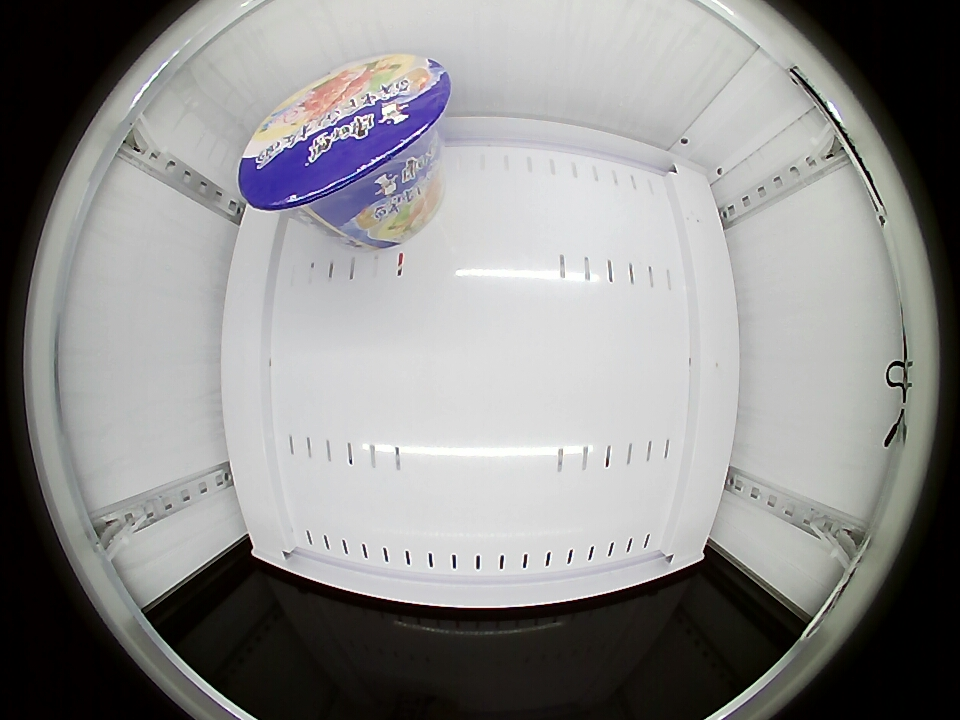xianxiayuban: (238, 54, 451, 220)
